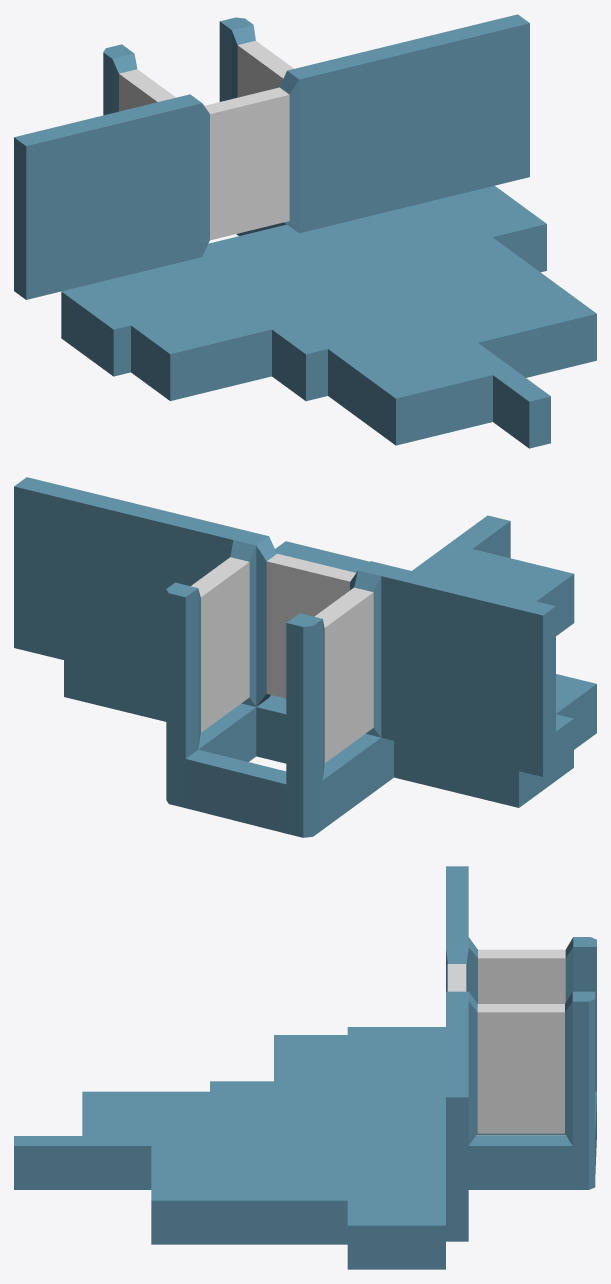
File: Exit.fbx
3 views of the same model, one above another, from view 1: azimuth 30°, elevation 25°; view 2: azimuth 150°, elevation 25°; view 3: azimuth 270°, elevation 25° (orthographic). The views are drawn at different scales.
Visible parts, largest first — view 1: Walls, ExitForceField; view 2: Walls, ExitForceField; view 3: Walls, ExitForceField.
Boxes of the visible parts, left/top/right/bottom form: Walls: left=14, top=14, right=596, bottom=448; ExitForceField: left=204, top=87, right=289, bottom=240; Walls: left=14, top=477, right=596, bottom=837; ExitForceField: left=266, top=553, right=355, bottom=698; Walls: left=14, top=866, right=596, bottom=1269; ExitForceField: left=447, top=964, right=466, bottom=991.
Size of the model in its own units: 2246 by 855 by 2397.
